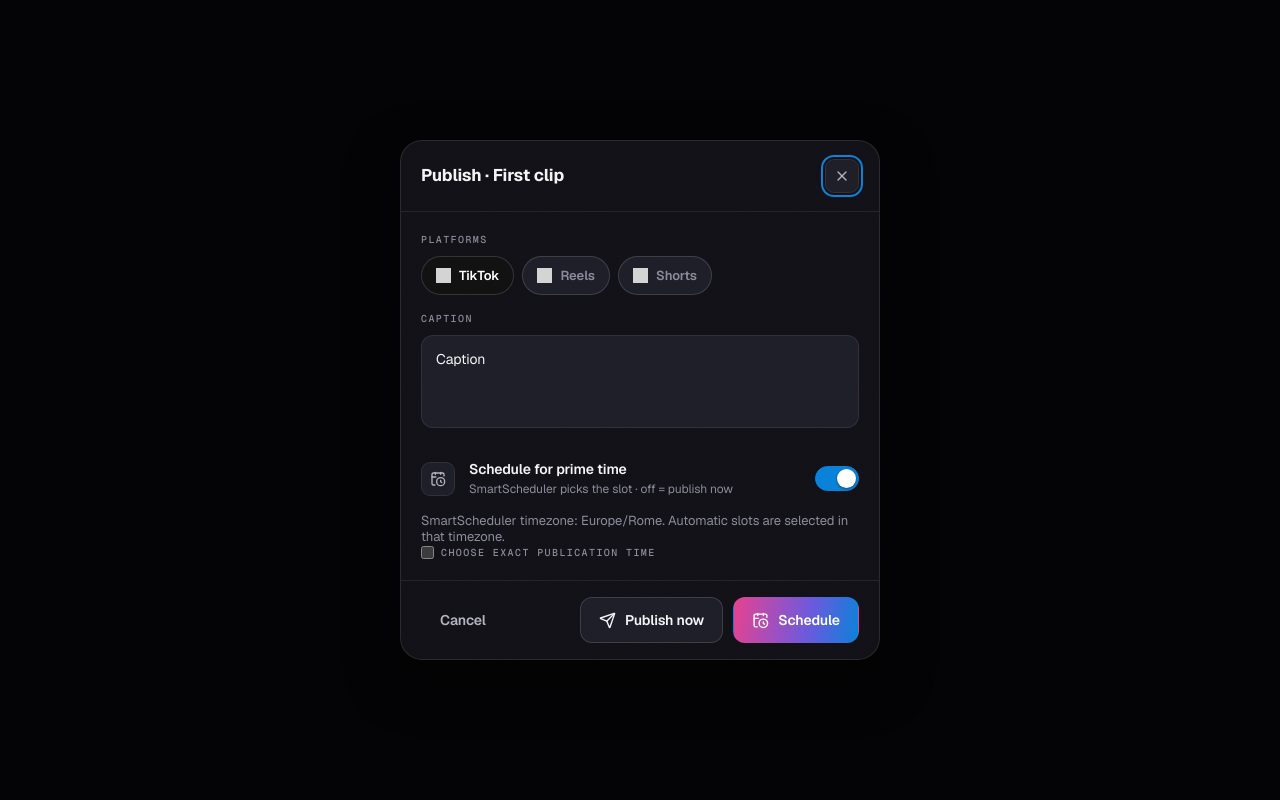
Scenario: Publish now sends now, even though the scheduling switch defaults to on
Click the button "Publish now". click: coordinates (652, 620)
box: [580,597,723,643]
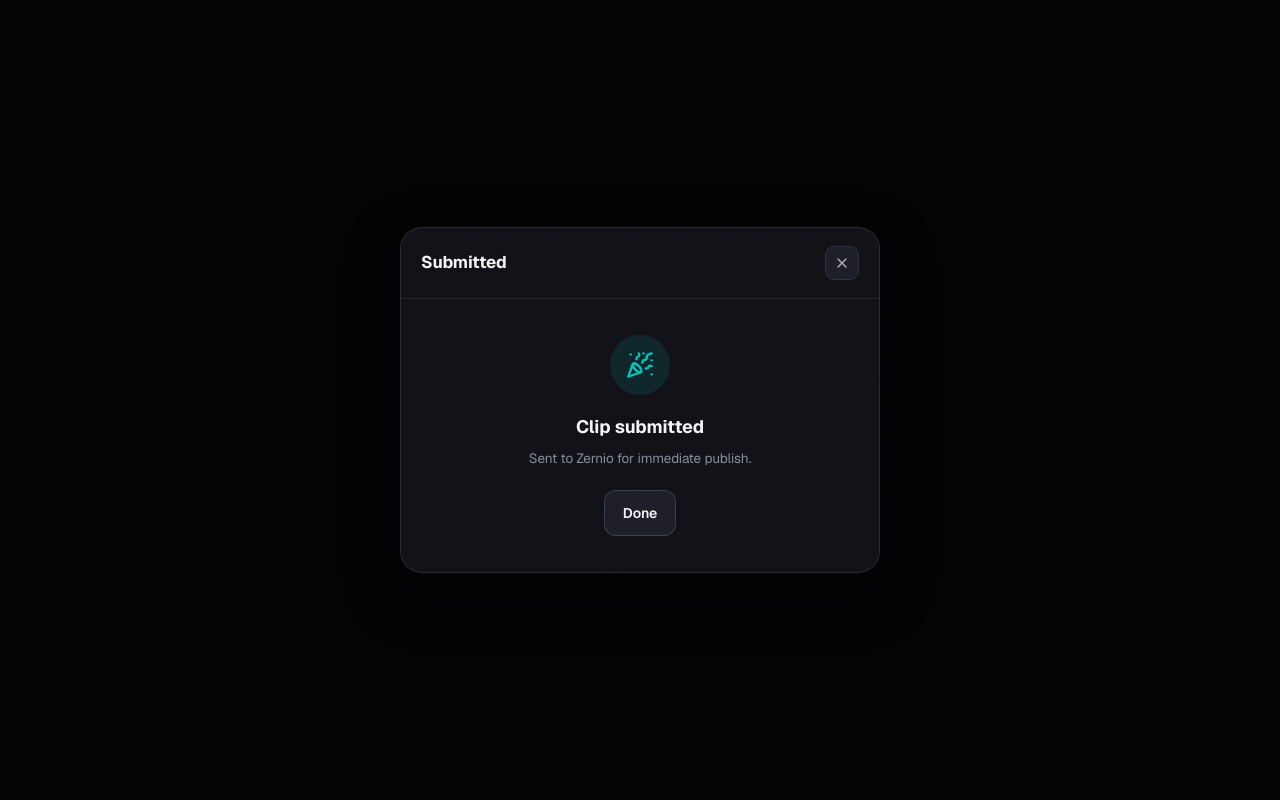
Expected: the text "Clip submitted" is shown, [576,415,704,438]
